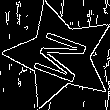M_E: (27, 25, 93, 87)
